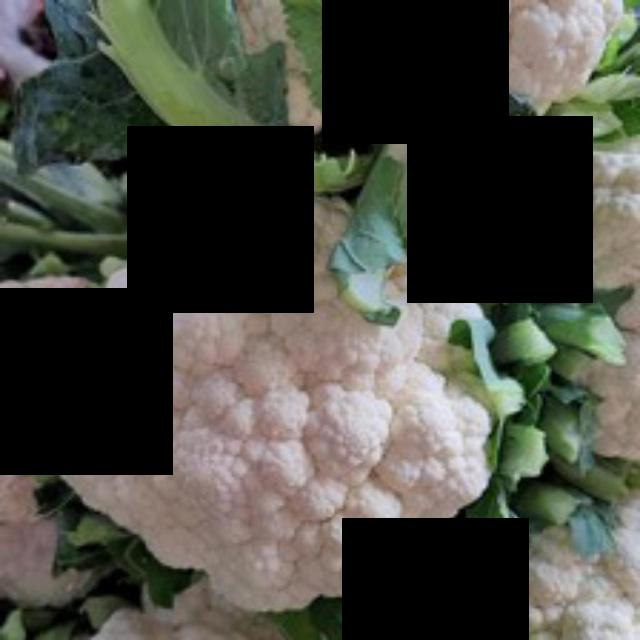cauliflower: (51, 175, 522, 623)
